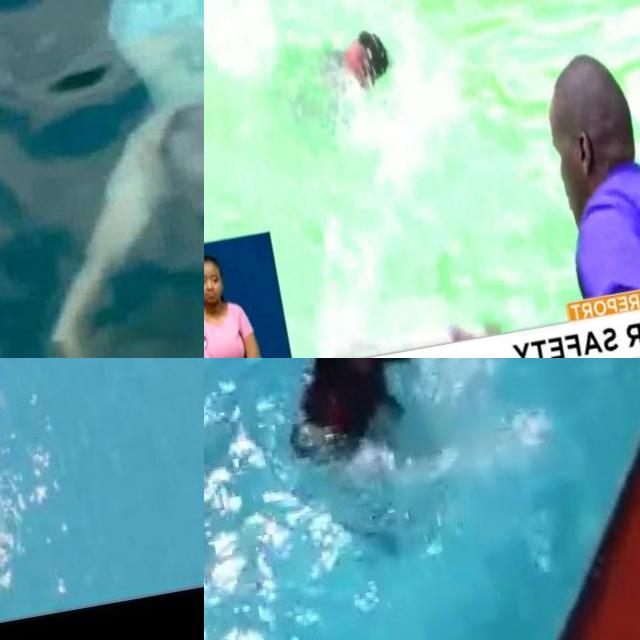drowning: (257, 358, 465, 529), (271, 8, 426, 174)
out of water: (531, 30, 640, 358)
swimming: (0, 0, 204, 358)
